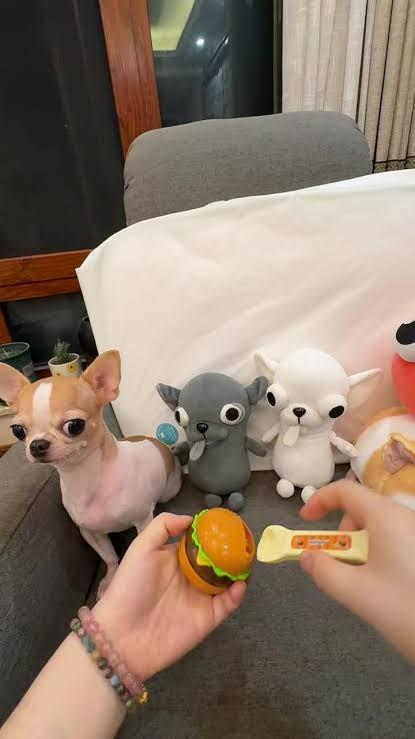adult_dog: (1, 351, 183, 578)
non-dog: (249, 345, 383, 506), (157, 367, 279, 513), (356, 316, 415, 517)
